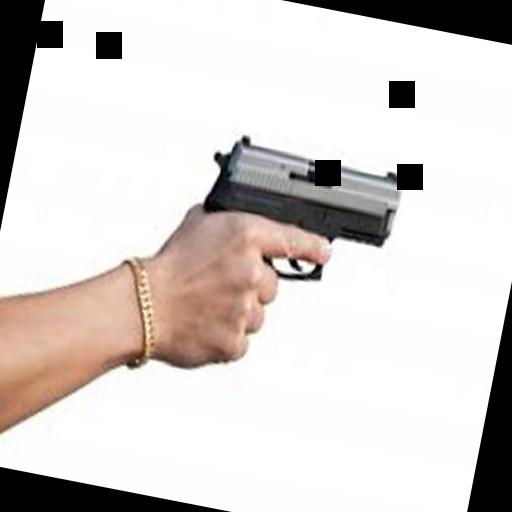Handgun: (155, 120, 407, 391)
